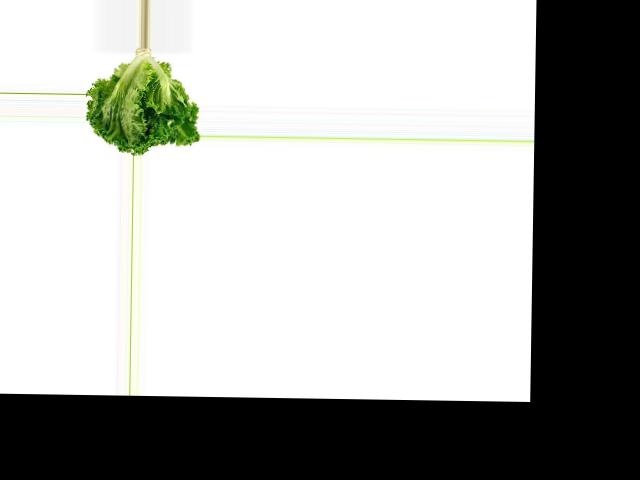lettuce: (85, 46, 200, 155)
